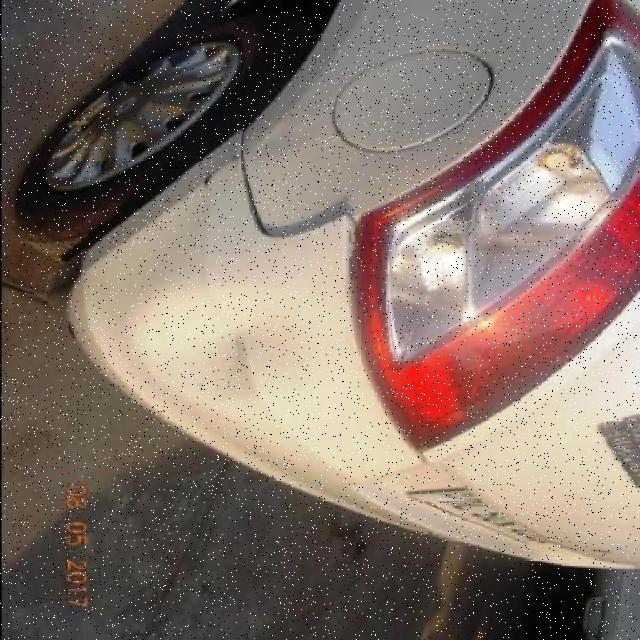damage: (130, 283, 331, 419), (227, 133, 353, 243), (198, 150, 244, 195), (222, 321, 248, 357)
